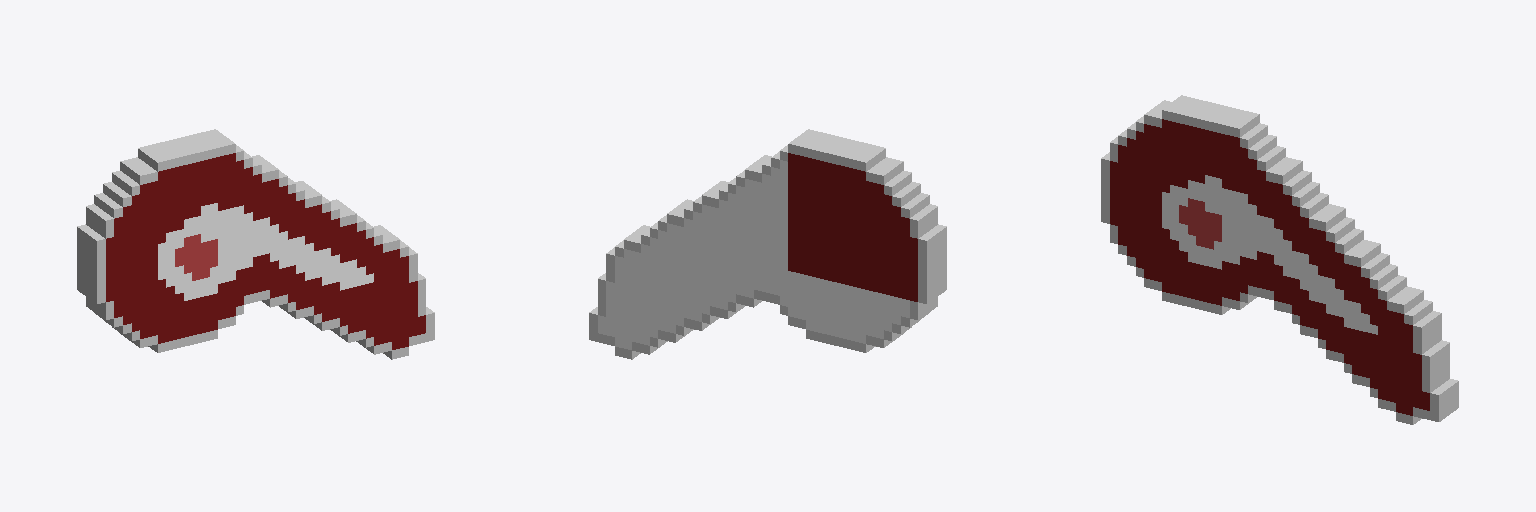
The picture shows the model from 3 angles: view 1: azimuth 30°, elevation 25°; view 2: azimuth 150°, elevation 25°; view 3: azimuth 330°, elevation 25°; orthographic projection.
Visible parts, largest first — view 1: object 1; view 2: object 1; view 3: object 1.
Boxes of the visible parts, box(x1,y1,x2,y2) form: object 1: box(77, 129, 434, 359); object 1: box(589, 129, 946, 359); object 1: box(1101, 95, 1458, 424).
Size of the model in its own units: 3.9 by 2.8 by 0.4.
Materials: 1 (1 with a texture image).